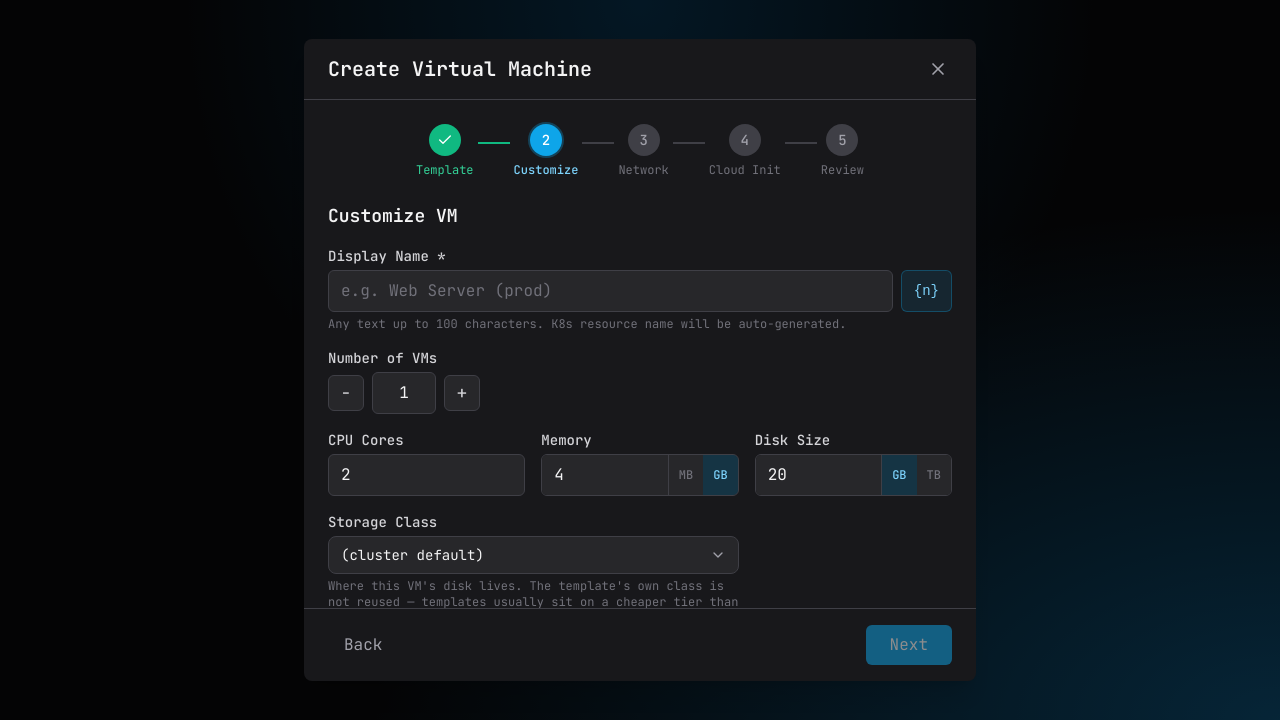
Test case: a batch that fails › shows the reason the server gave, beside the name
The width and height of the screenshot is (1280, 720).
Type "op-vm1" into the field with placeholder "e.g. Web Server (prod)" at x=610, y=291, box x1=328 y1=270 x2=893 y2=312
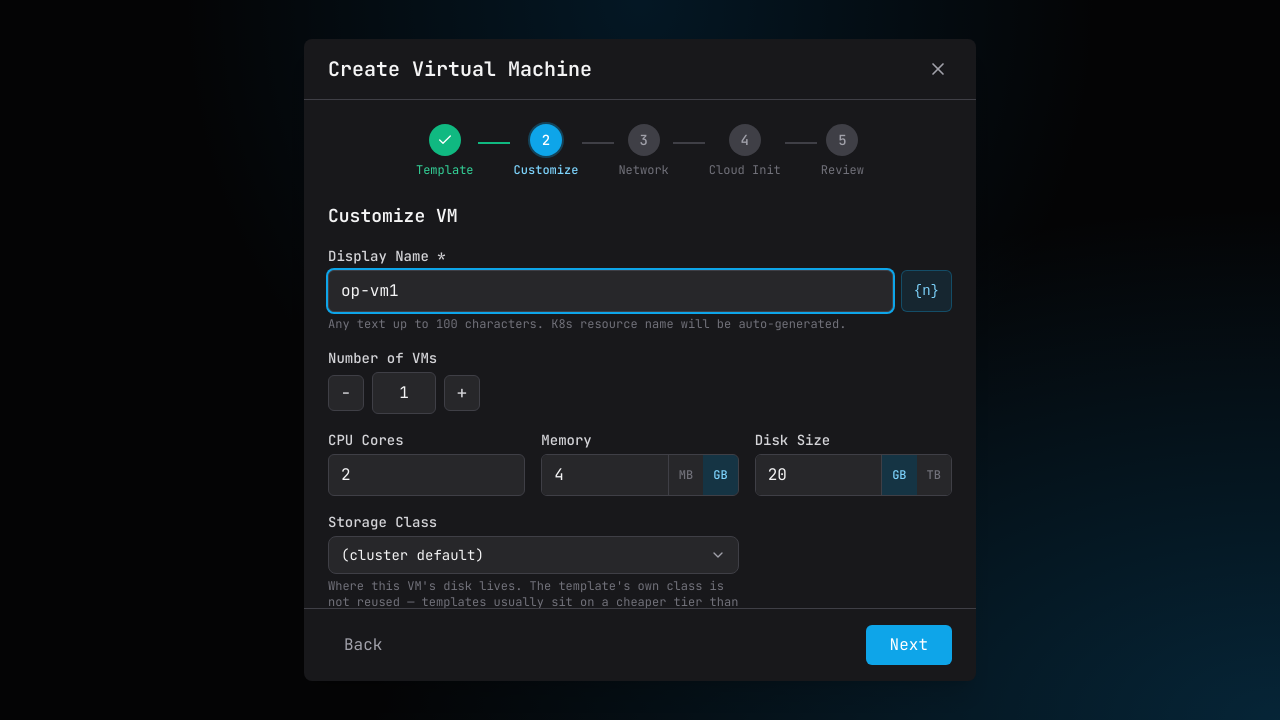
Click the button "Next" at x=909, y=645, box x1=866 y1=625 x2=952 y2=665
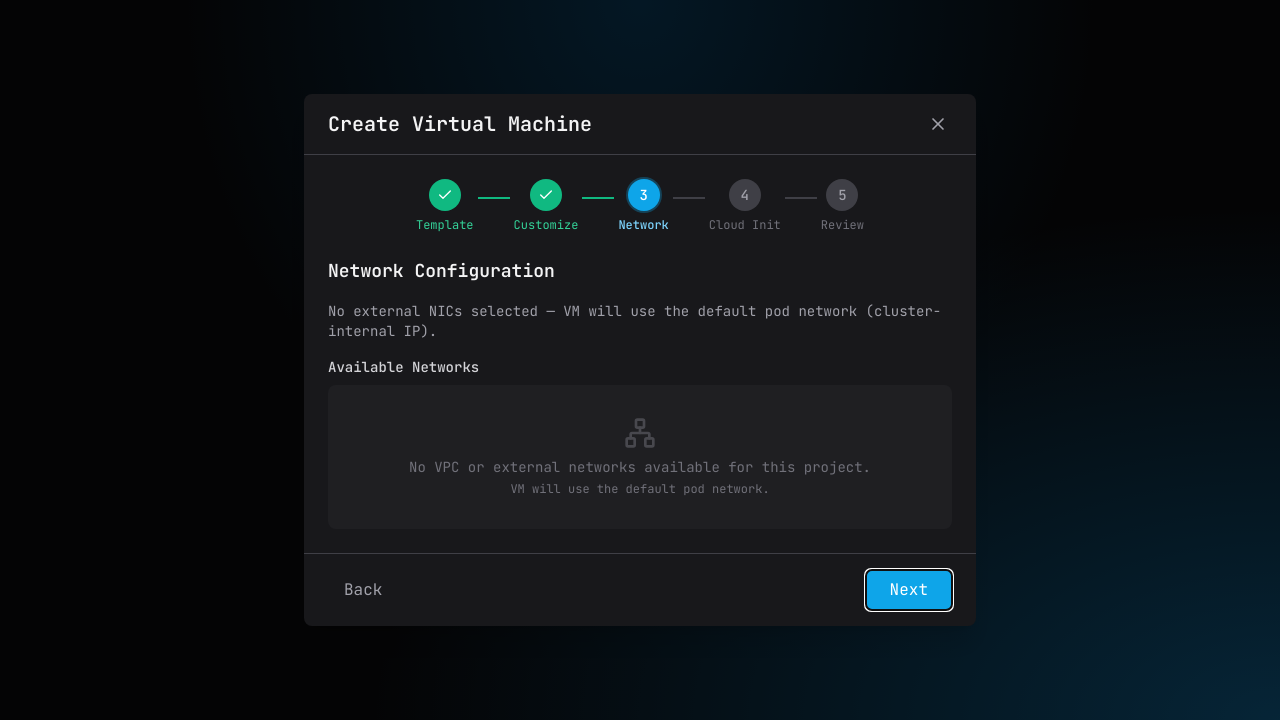
Click the button "Next" at x=909, y=590, box x1=866 y1=570 x2=952 y2=610
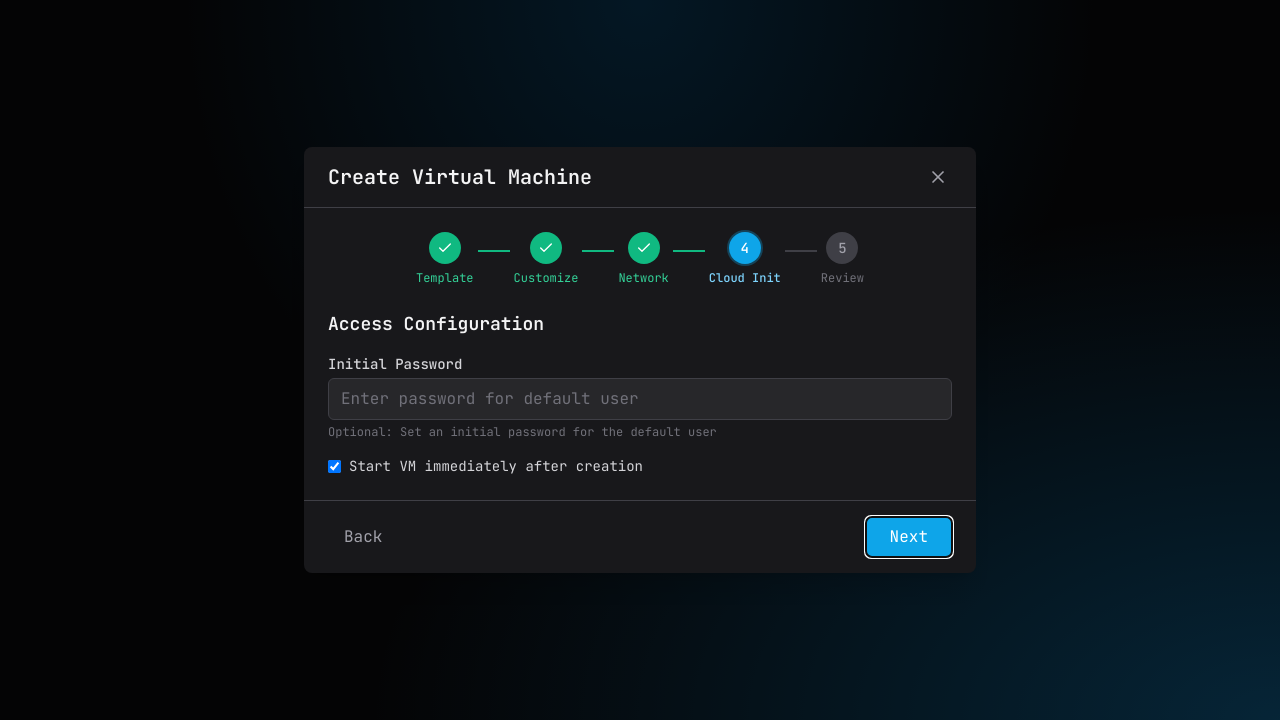
Click the button "Next" at x=909, y=537, box x1=866 y1=517 x2=952 y2=557
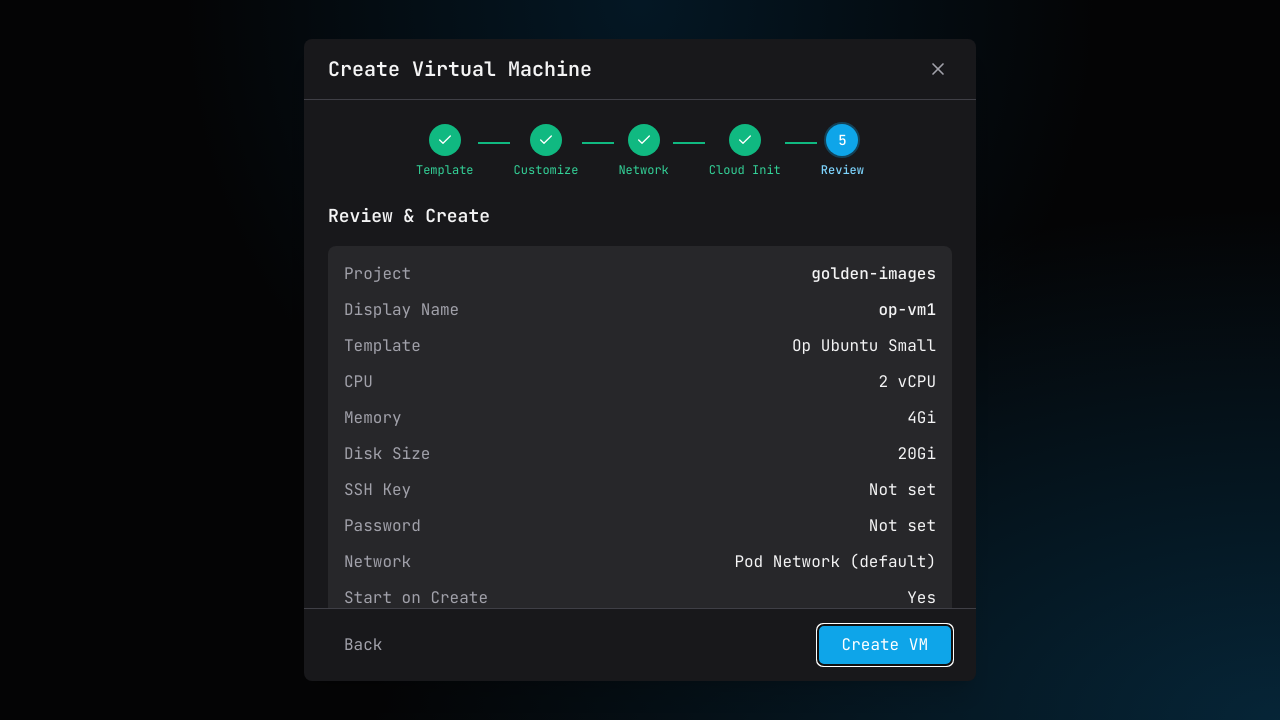
Click the button "Create VM" at x=885, y=645, box x1=818 y1=625 x2=952 y2=665
(page scrolled)
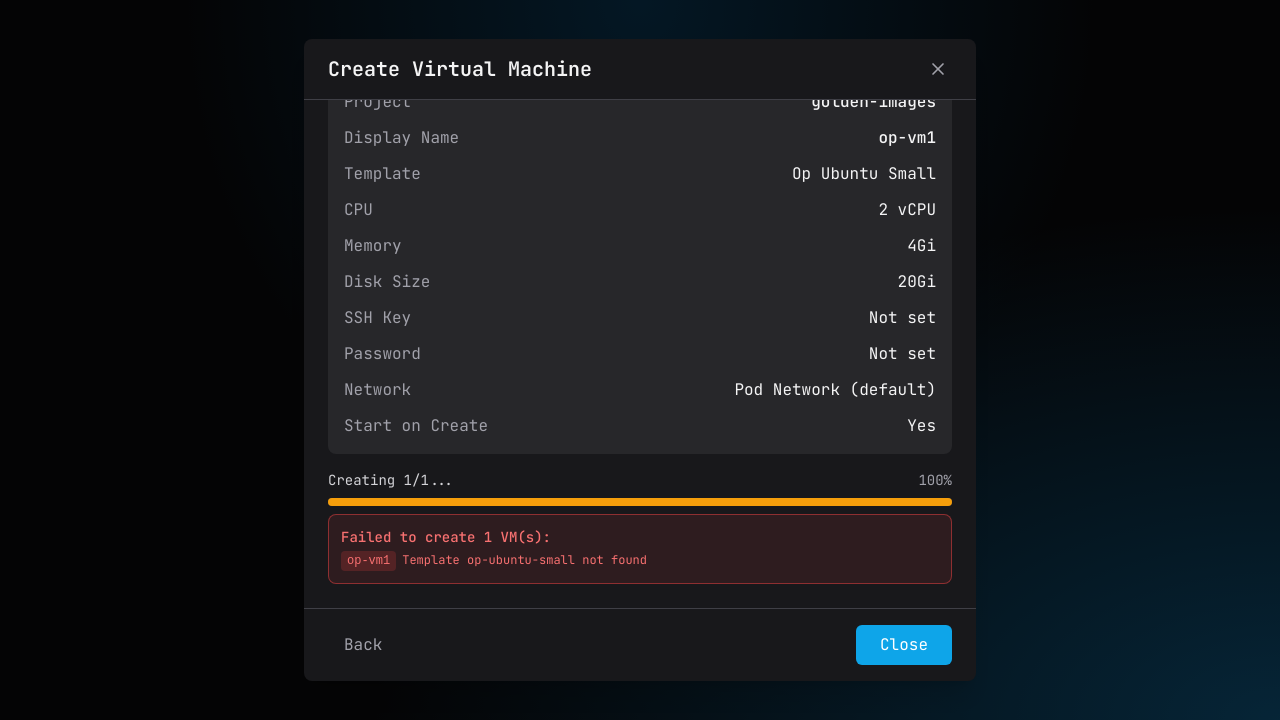
Expected: the text "Template op-ubuntu-small not found" is shown, x1=402 y1=552 x2=647 y2=568
